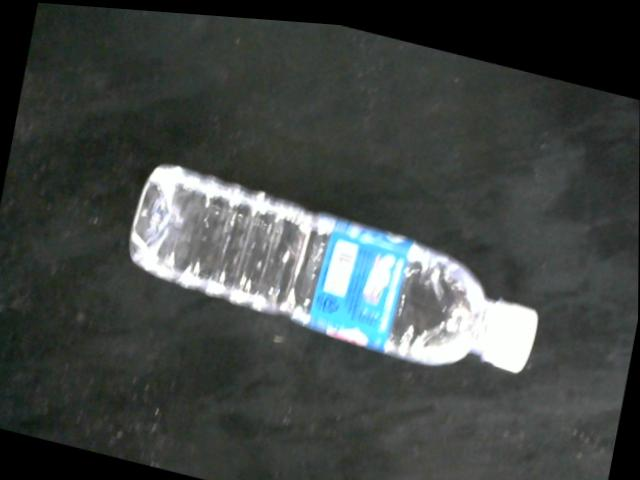bottle: (127, 162, 540, 367)
